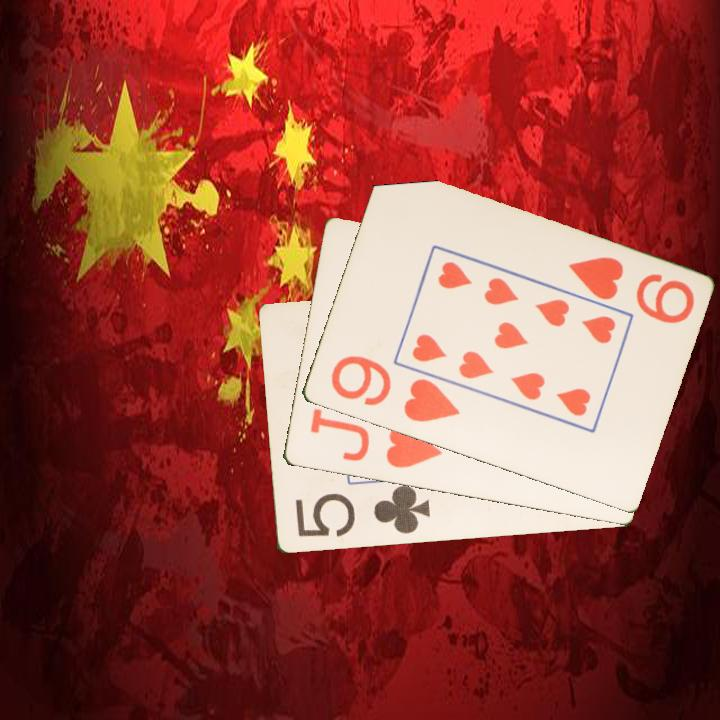5c: (291, 482, 433, 541)
9h: (326, 352, 463, 426), (564, 253, 697, 327)
Jh: (305, 406, 445, 472)
